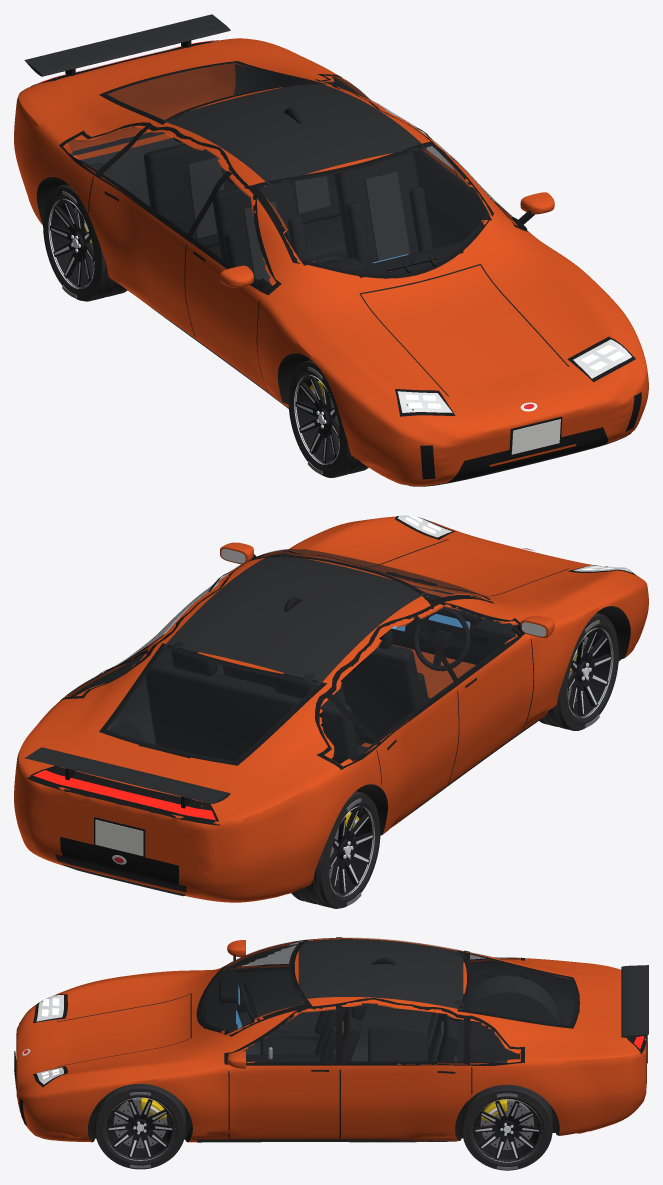
The model's file is taycangt.glb.
3 renders of one model, top to bottom at view 1: azimuth 30°, elevation 25°; view 2: azimuth 150°, elevation 25°; view 3: azimuth 270°, elevation 25°, orthographic. The views are drawn at different scales.
Parts seen in each view (by area): view 1: Body, Wheel_RR, Wheel_FR; view 2: Body, Wheel_RR, Wheel_FR; view 3: Body, Wheel_FL, Wheel_RL.
Boxes of the visible parts, x1,y1,x2,y2 form: Body: [14, 14, 648, 486]; Wheel_RR: [43, 184, 127, 301]; Wheel_FR: [288, 360, 368, 477]; Body: [14, 515, 648, 902]; Wheel_RR: [291, 791, 380, 908]; Wheel_FR: [539, 613, 618, 730]; Body: [14, 937, 648, 1142]; Wheel_FL: [95, 1083, 185, 1169]; Wheel_RL: [462, 1084, 552, 1170].
Bounding box in the file's own units: 2.28 × 1.42 × 5.02.
